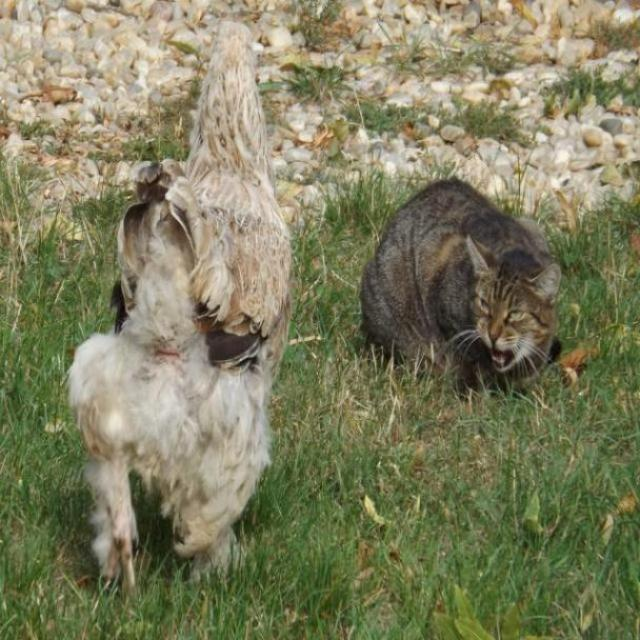Chicken: (70, 64, 295, 605)
